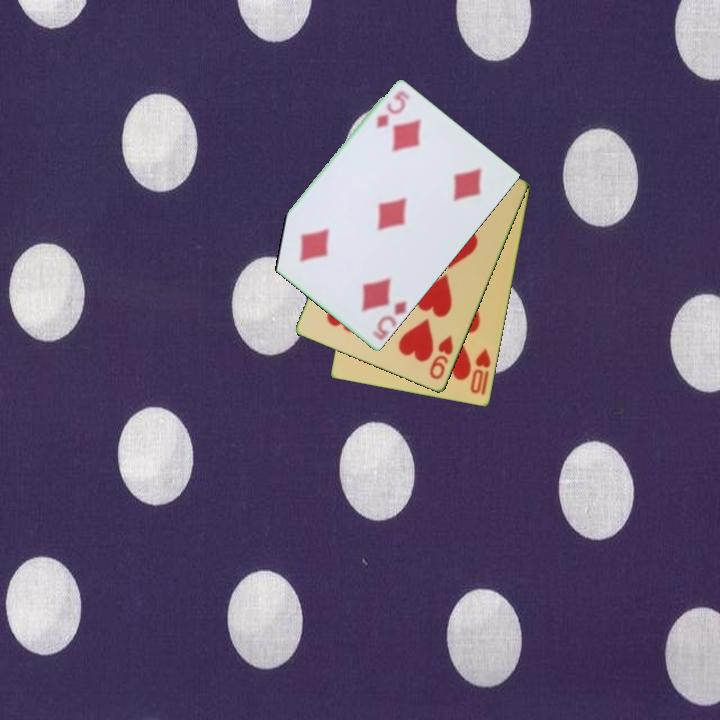10h: (467, 345, 494, 397)
5d: (369, 298, 410, 344), (373, 87, 408, 132)
9h: (426, 332, 456, 383)
